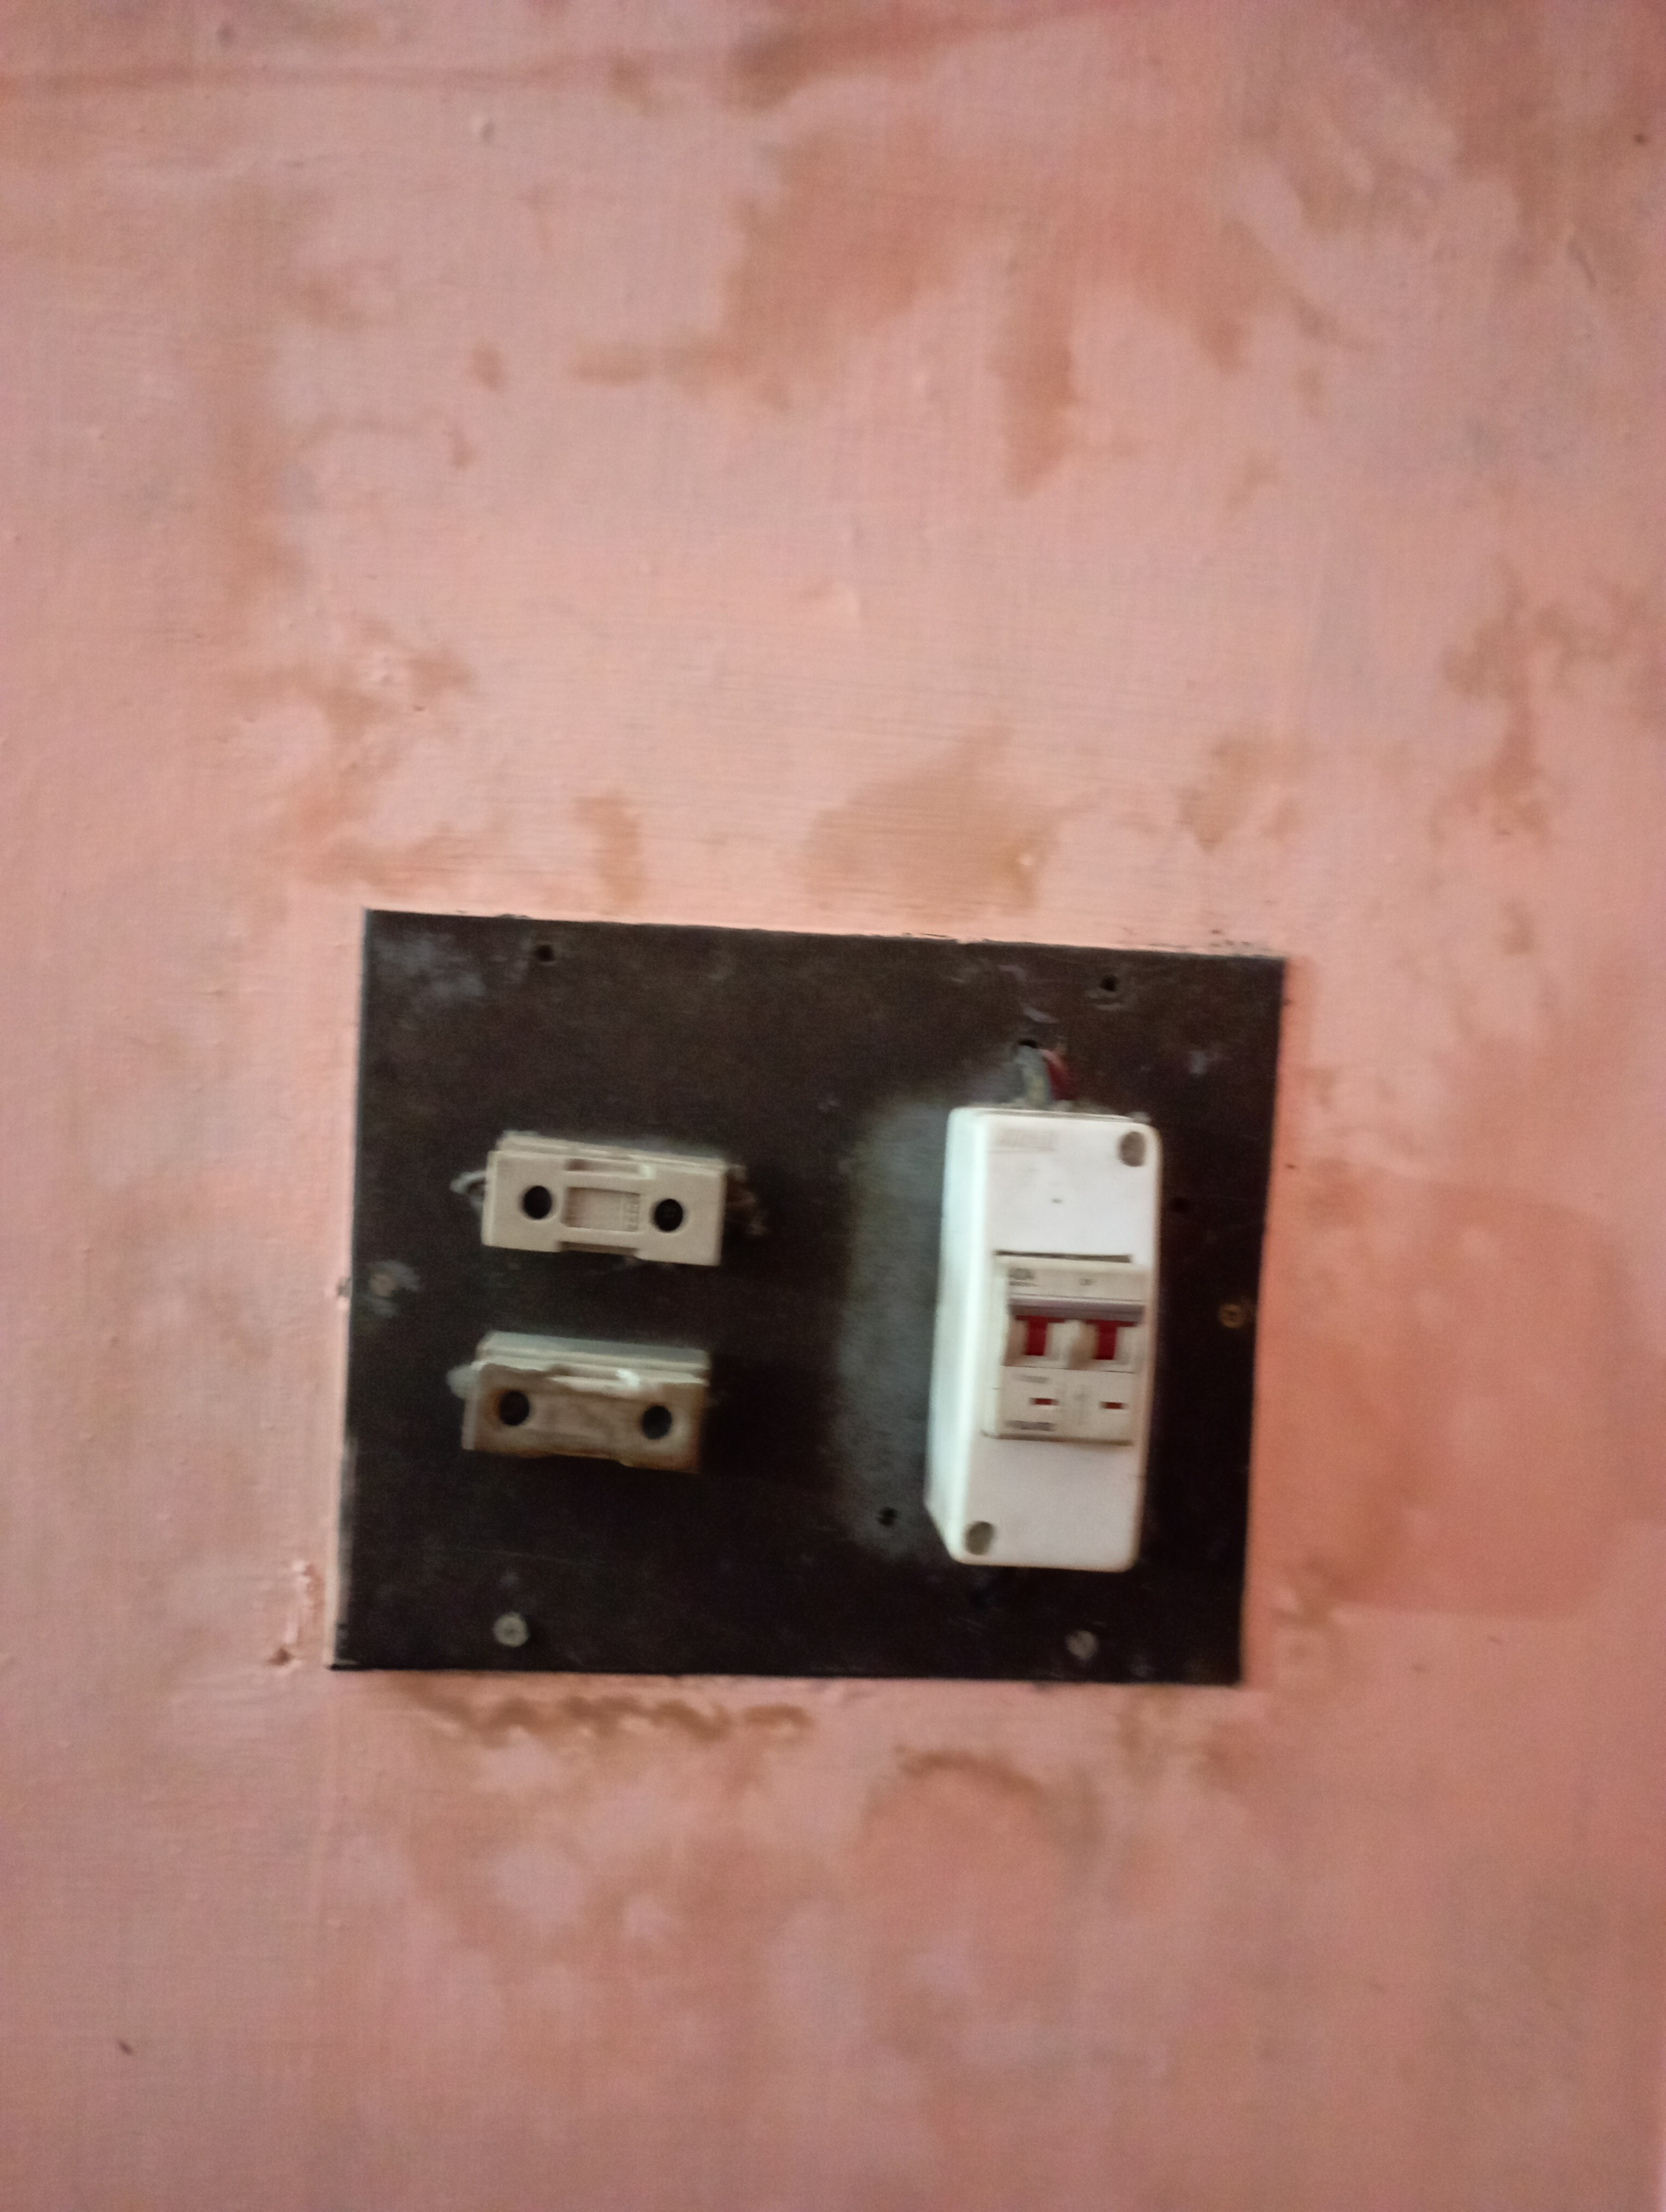ciruit_breaker: (894, 1075, 1159, 1617)
fuse: (450, 1128, 766, 1273), (467, 1322, 714, 1481)
